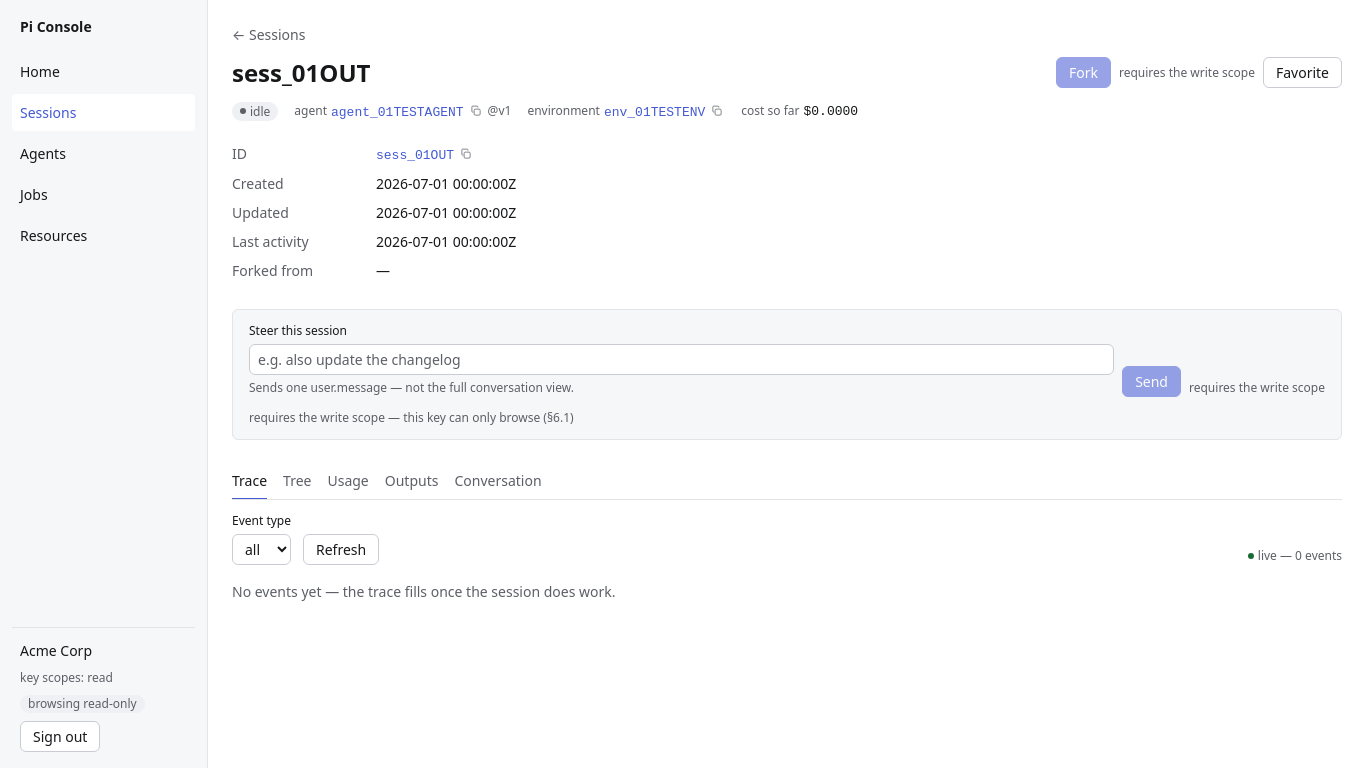
Test: output files list › lists the files with download links to the cookie-authed /v1 route
Expected: the element named "Session detail" is shown, [232,464,1342,500]
Click the tab "Outputs" at (412, 482), box [385,464,438,500]
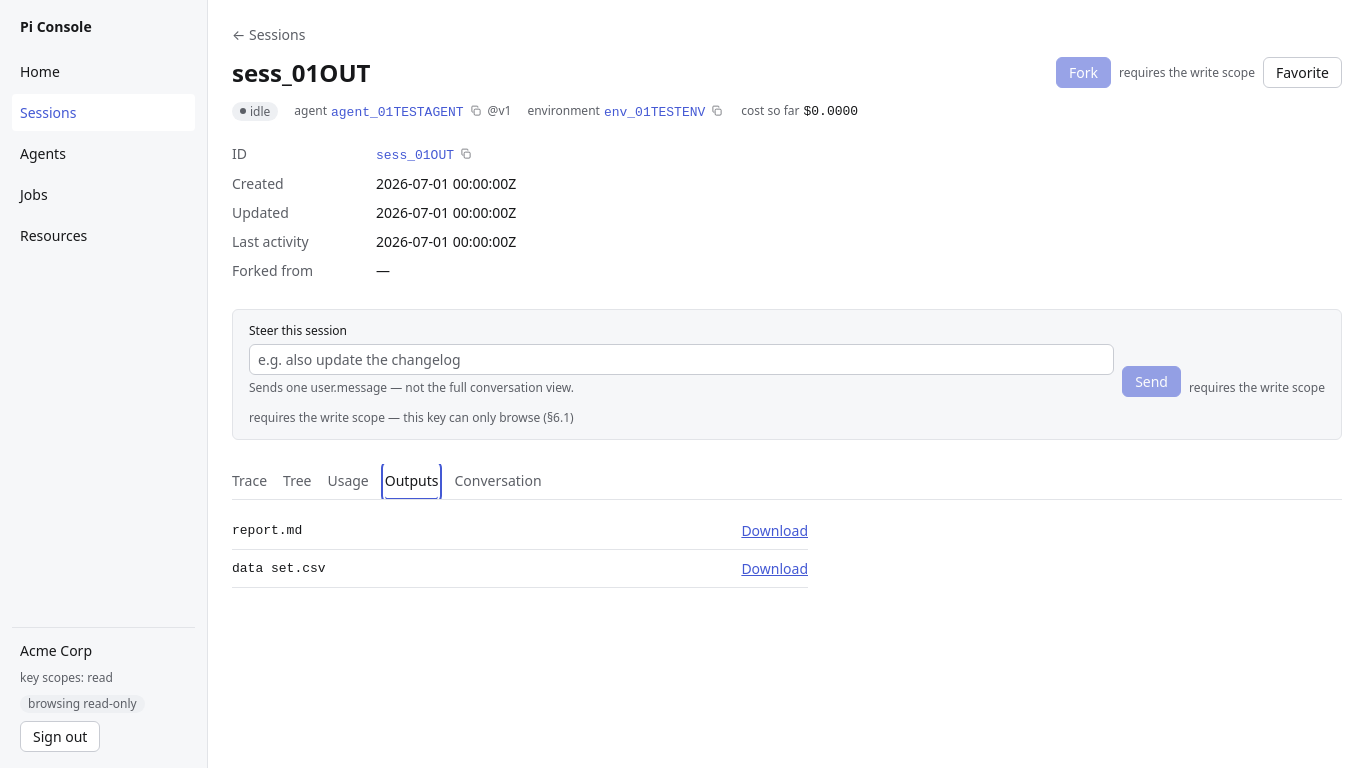
Result: the list item "report.md Download" is shown at [232,512,808,550]
